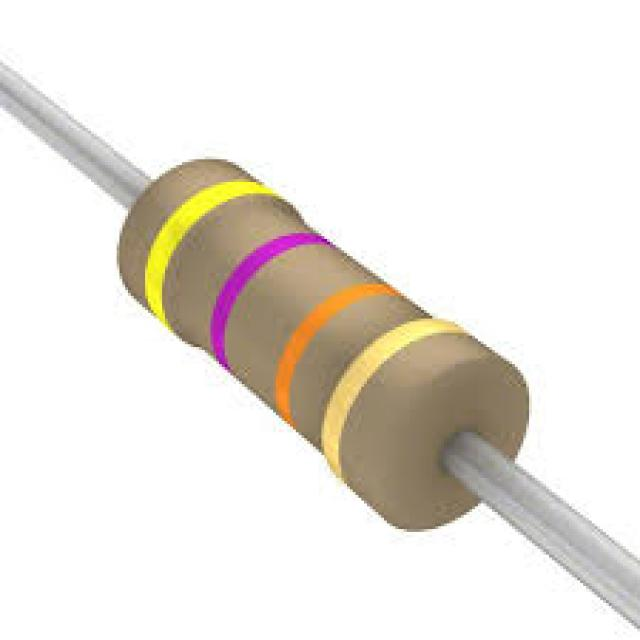Resistor: (102, 112, 540, 538)
